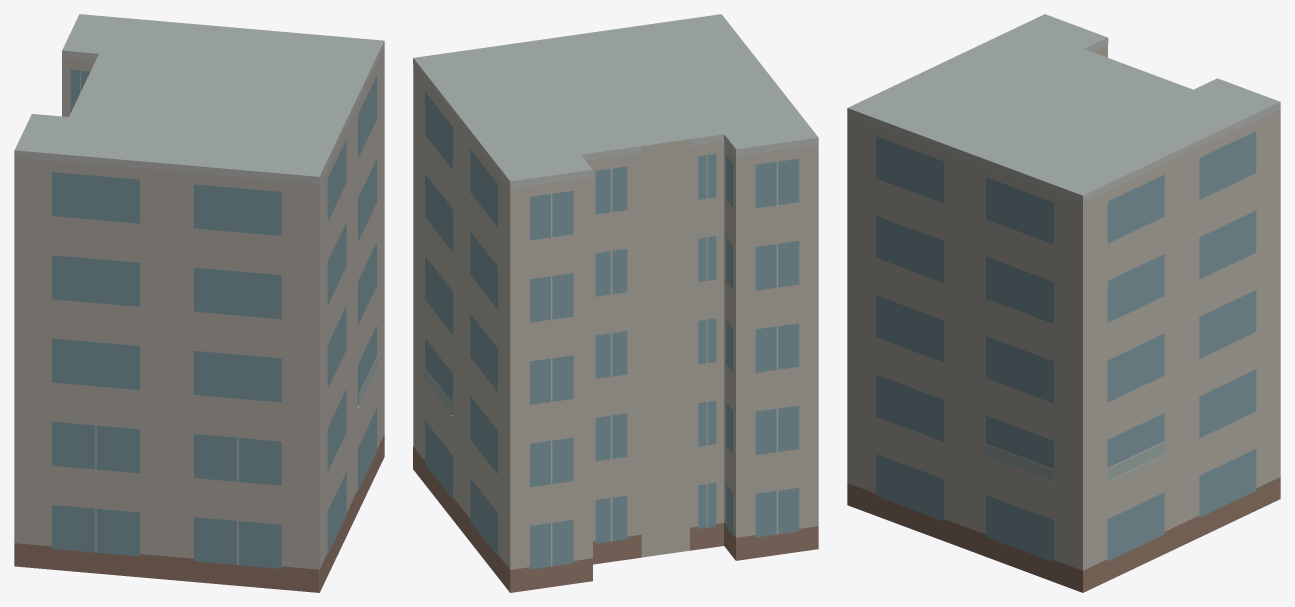
Rendered from survey-upis-32610208.glb.
3 renders of one model, left to right at view 1: azimuth 30°, elevation 25°; view 2: azimuth 150°, elevation 25°; view 3: azimuth 270°, elevation 25°, orthographic. The views are drawn at different scales.
Parts seen in each view (by area): view 1: survey-upis-32610208.tmp; view 2: survey-upis-32610208.tmp; view 3: survey-upis-32610208.tmp.
Boxes of the visible parts, x1,y1,x2,y2 form: survey-upis-32610208.tmp: [14, 14, 384, 592]; survey-upis-32610208.tmp: [413, 14, 818, 592]; survey-upis-32610208.tmp: [847, 14, 1280, 592].
Size of the model in its own units: 14.33 by 14.6 by 14.44.
